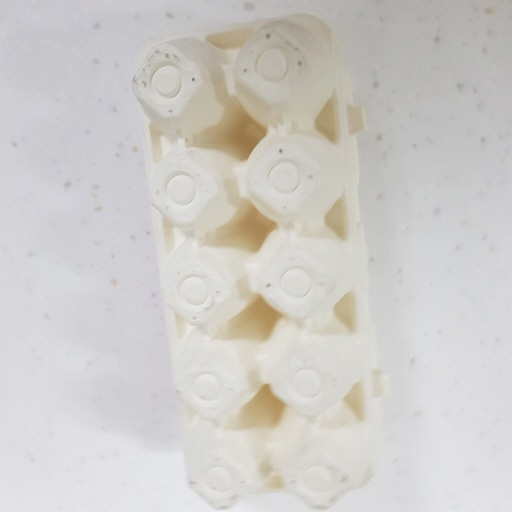Paper_0: (125, 11, 395, 512)
